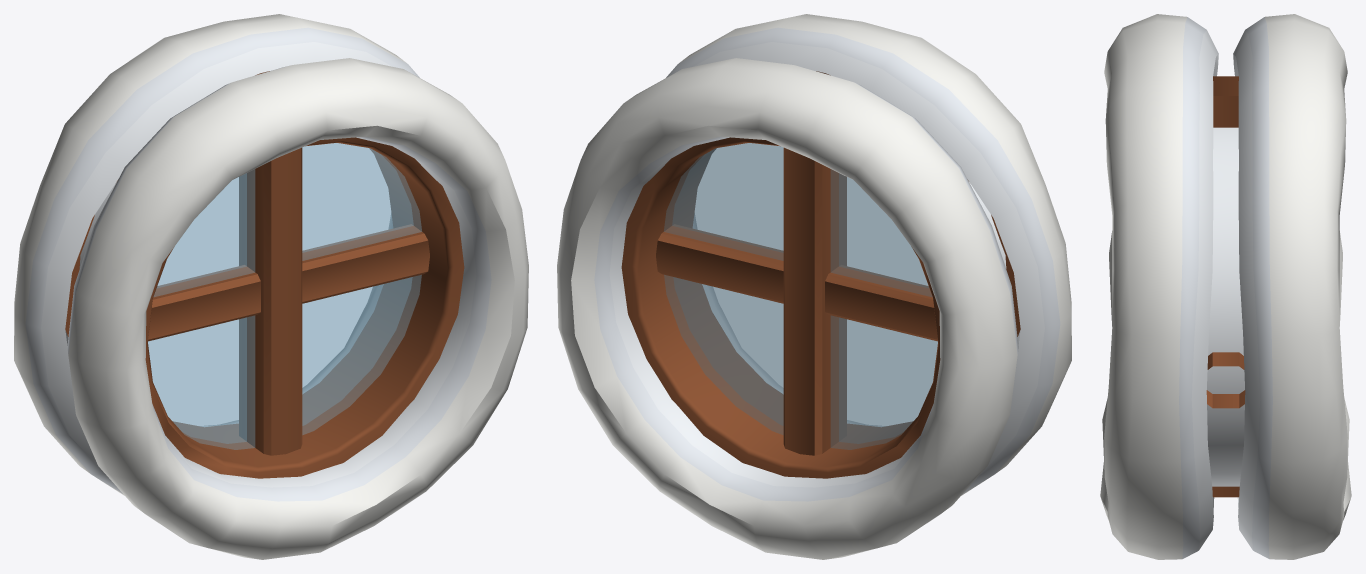
Rendered from janela_natal_redonda_glace_pacote.glb.
3 renders of one model, left to right at view 1: azimuth 30°, elevation 25°; view 2: azimuth 150°, elevation 25°; view 3: azimuth 270°, elevation 25°, orthographic. The views are drawn at different scales.
Visible parts, largest first — view 1: janela_natal_redonda_glace_pacote; view 2: janela_natal_redonda_glace_pacote; view 3: janela_natal_redonda_glace_pacote.
Part boxes in pixels (x1=…): janela_natal_redonda_glace_pacote: x1=14, y1=14, x2=528, y2=559; janela_natal_redonda_glace_pacote: x1=557, y1=14, x2=1071, y2=559; janela_natal_redonda_glace_pacote: x1=1100, y1=14, x2=1351, y2=559.
Bounding box in the file's own units: 1.47 × 1.51 × 0.7018.
Materials: 2 (1 with a texture image).
